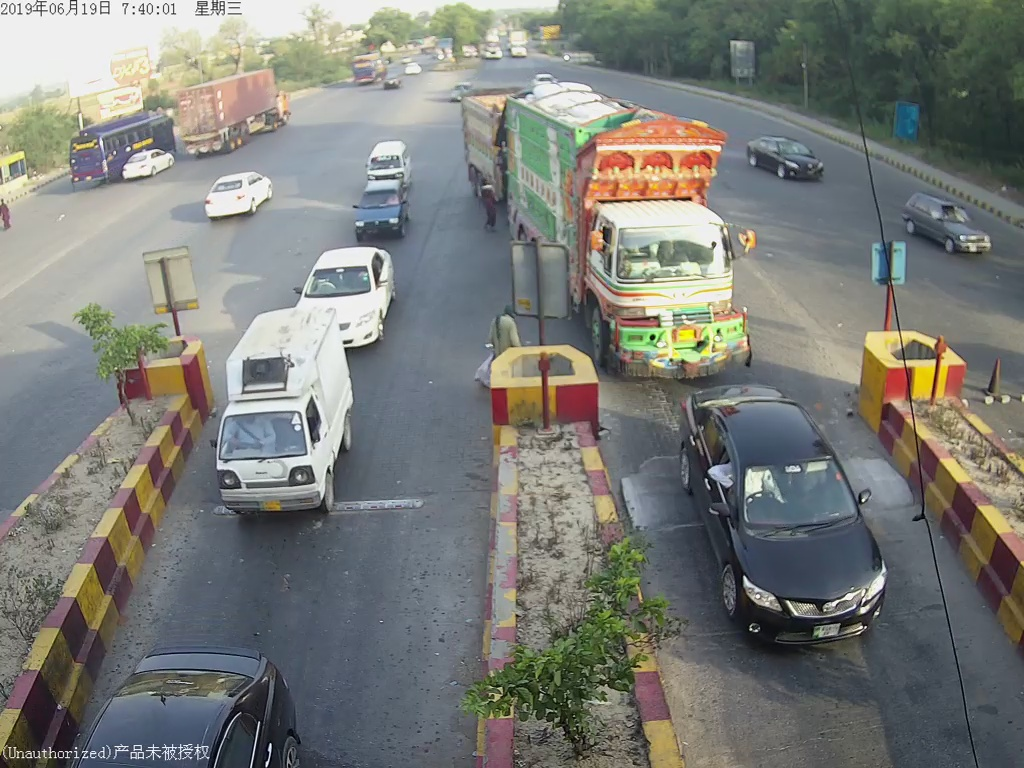Cat-1: (673, 388, 895, 651), (211, 322, 365, 534), (295, 244, 402, 313)
Cat-4: (495, 81, 751, 381)
